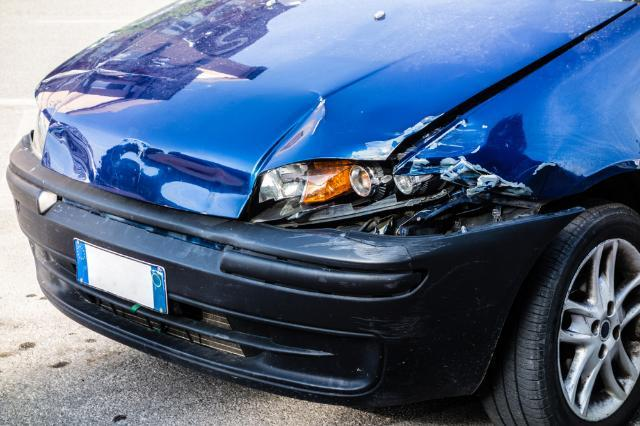crack: (343, 232, 414, 270)
dent: (46, 88, 427, 219), (398, 119, 588, 203)
dislocated part: (378, 3, 640, 174)
lamp broken: (229, 157, 532, 236)
scratch: (286, 230, 410, 262)
